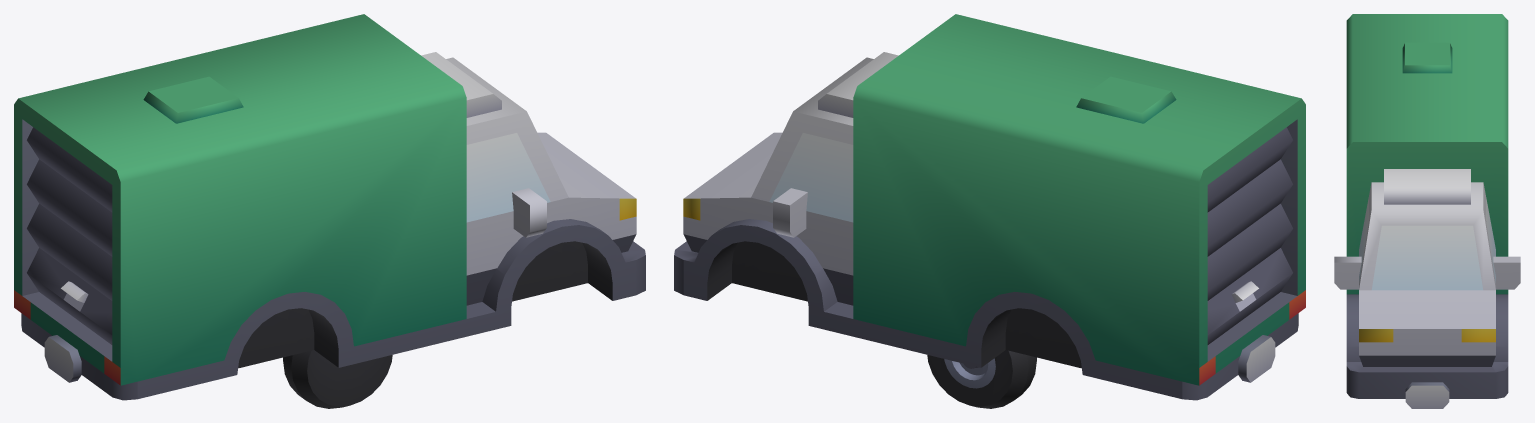
File: delivery.glb
3 renders of one model, left to right at view 1: azimuth 30°, elevation 25°; view 2: azimuth 150°, elevation 25°; view 3: azimuth 270°, elevation 25°, orthographic. The views are drawn at different scales.
Visible parts, largest first — view 1: body, wheel; view 2: body, wheel; view 3: body.
Part boxes in pixels (box(x1,y1,x2,y2)): body: box(14, 14, 645, 400); wheel: box(283, 350, 392, 408); body: box(674, 14, 1305, 400); wheel: box(927, 350, 1036, 408); body: box(1334, 14, 1520, 408).
Size of the model in its own units: 5.2 by 3.12 by 2.02.
